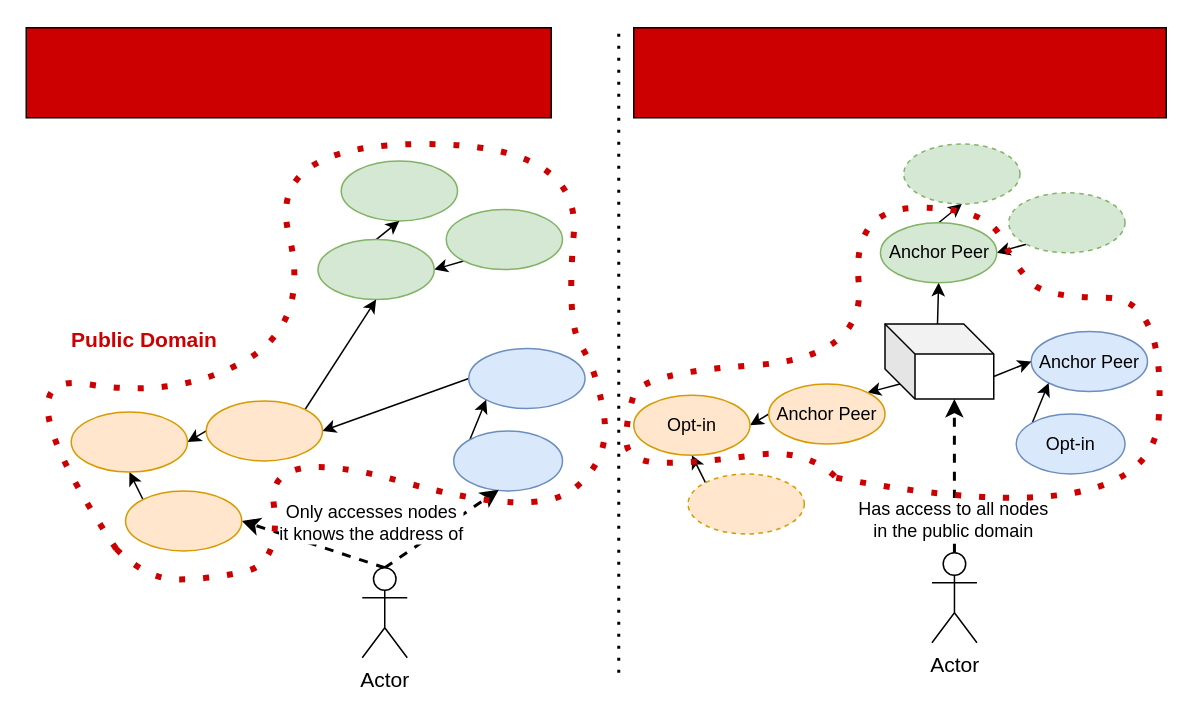
This 1193x719 diagram has some shape labels left out. The shapes that lost their labels are listed below. From the top down, each one's box as (x1, y1, x2, y2) in pixels, then its label:
(25, 26, 551, 118): Peer Discovery in Hyperledger Besu
(632, 26, 1166, 118): Peer Discovery in Hyperledger Fabric
(884, 322, 994, 399): Channel Config
